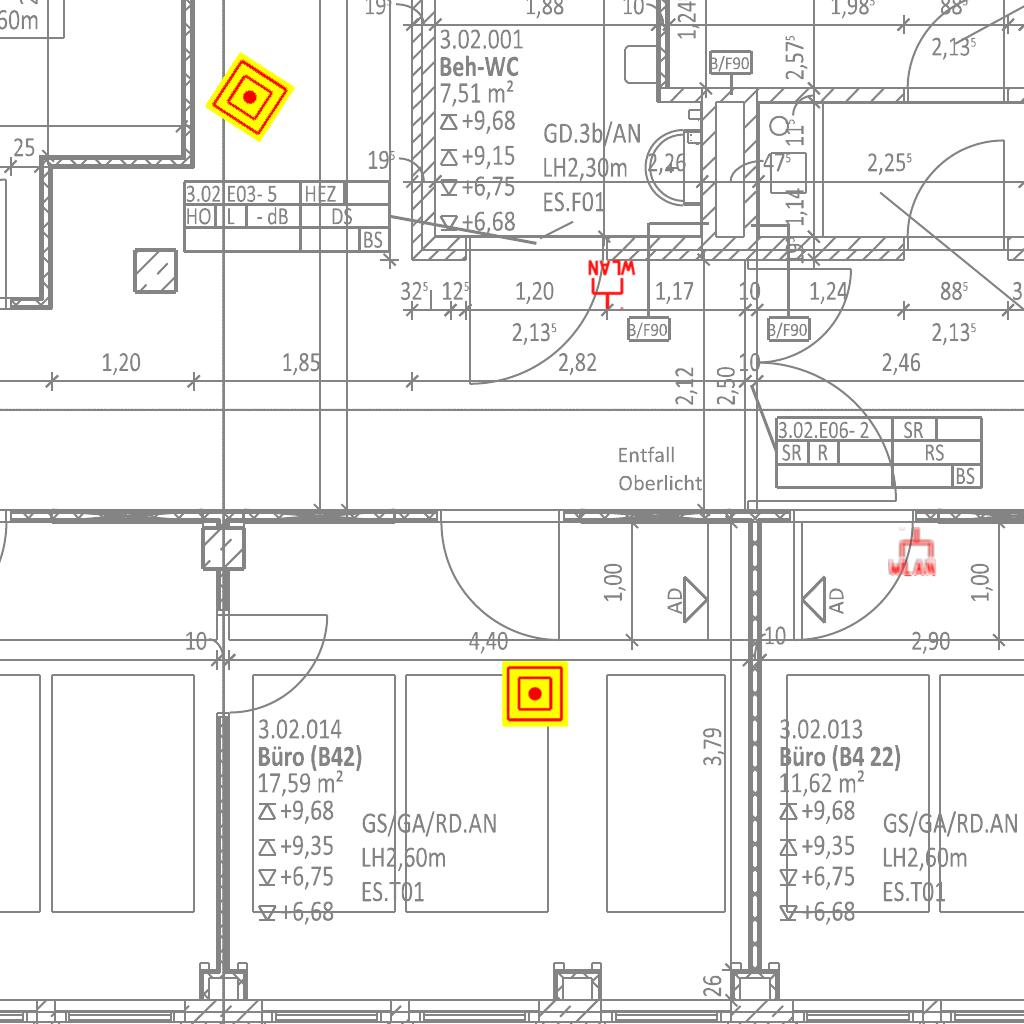NAM-Nichtautomatischer_Melder: (204, 51, 296, 143), (502, 661, 568, 727)
WLAN: (886, 525, 938, 577), (586, 259, 638, 311)
